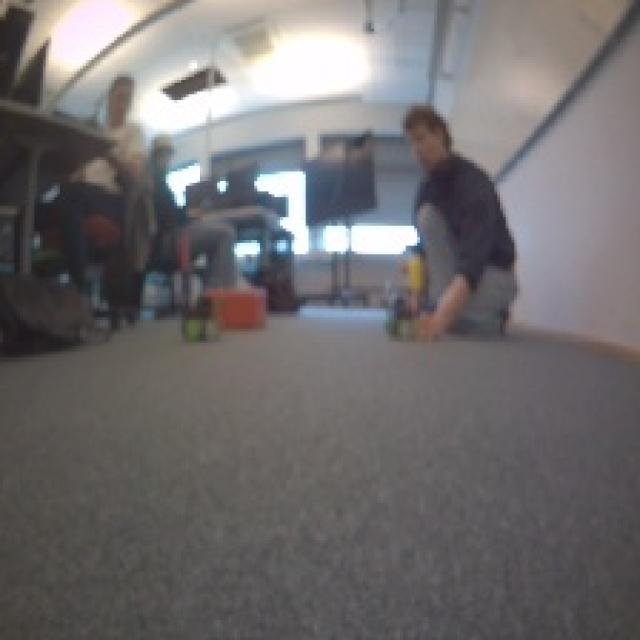robot: (383, 284, 436, 340), (178, 298, 221, 344)
target: (203, 283, 268, 328)
